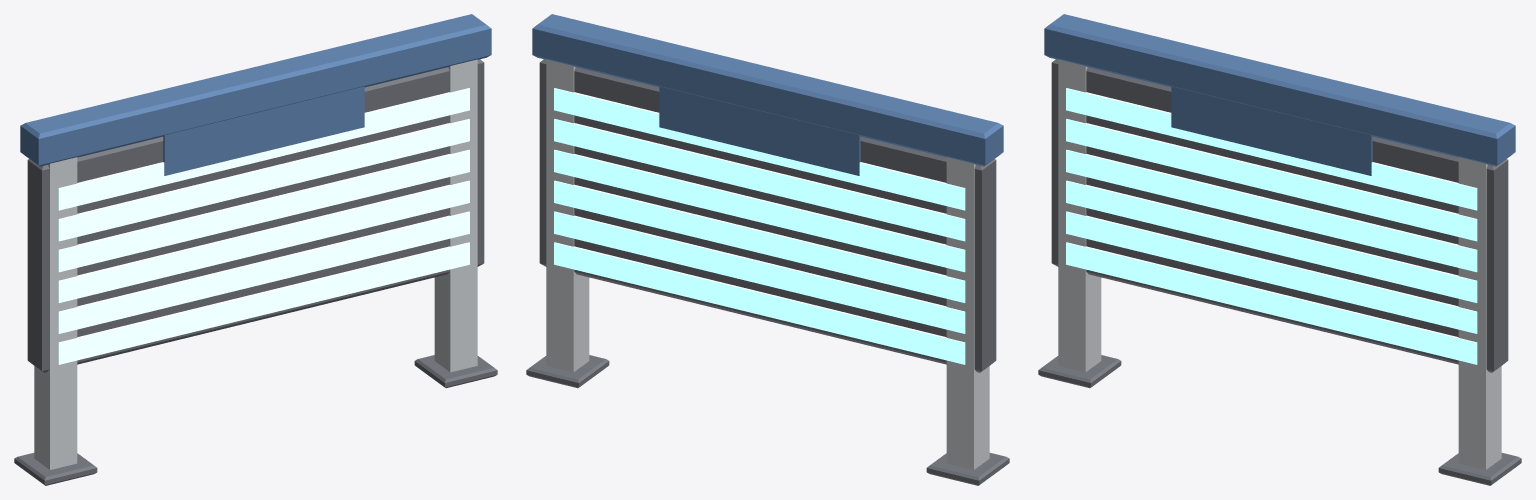
Rendered from airport-terminal-and-ground-operations-departure-board-a77781b2__26047.glb.
The picture shows the model from 3 angles, left to right: view 1: azimuth 30°, elevation 25°; view 2: azimuth 150°, elevation 25°; view 3: azimuth 330°, elevation 25°; orthographic projection.
Visible parts, largest first — view 1: departure-board; view 2: departure-board; view 3: departure-board.
Part boxes in pixels (x1,y1,x2,y2): departure-board: [14, 14, 497, 485]; departure-board: [526, 14, 1009, 485]; departure-board: [1038, 14, 1521, 485].
Bounding box in the file's own units: 4.3 × 3.15 × 0.4997.
